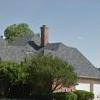Chimney: (36, 22, 56, 52)
